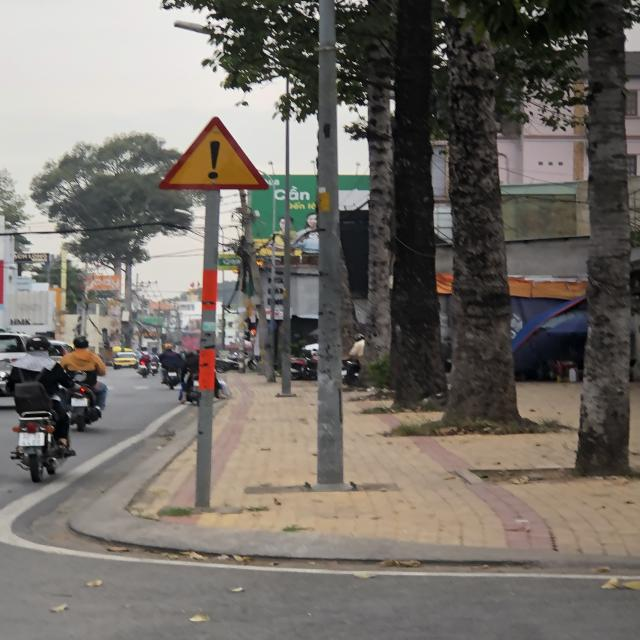Bien bao nguy hiem khac: (154, 114, 278, 196)
